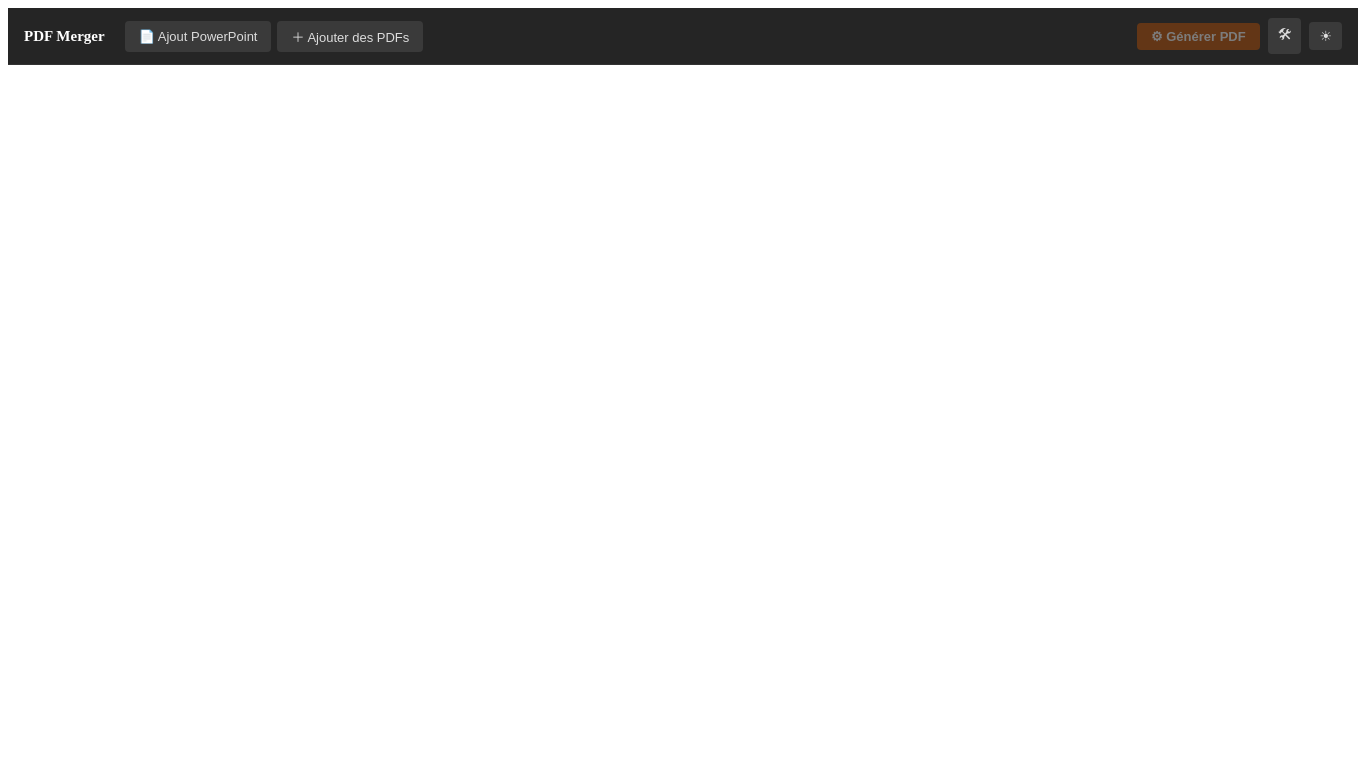
it: TopBar — bouton réglages › ouvre la modal de réglages au clic sur le bouton réglages
What coordinates should you click on to do the following:
click the button titled "Réglages"
I would click on:
 (1285, 36)
Its box is [1268,18,1302,54].
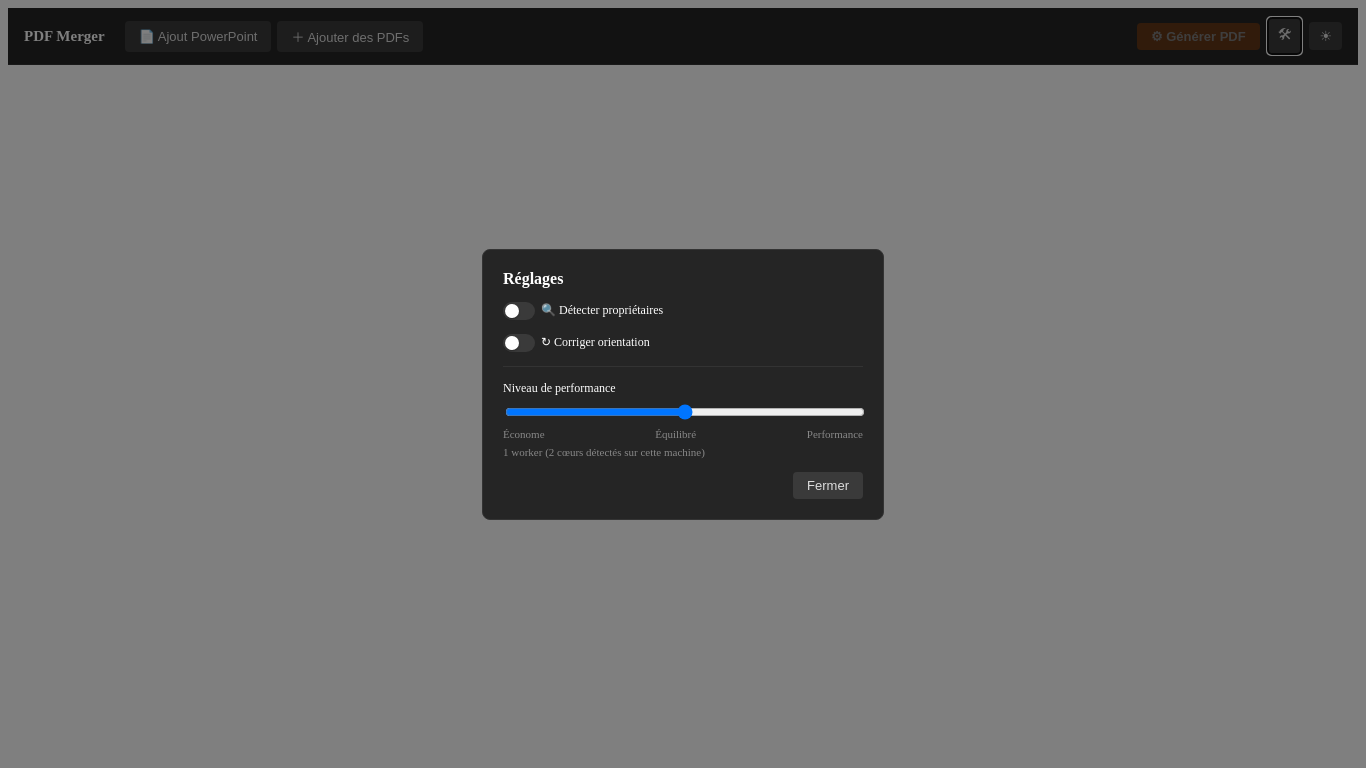
Expected: the dialog is shown, [482,248,884,520]
